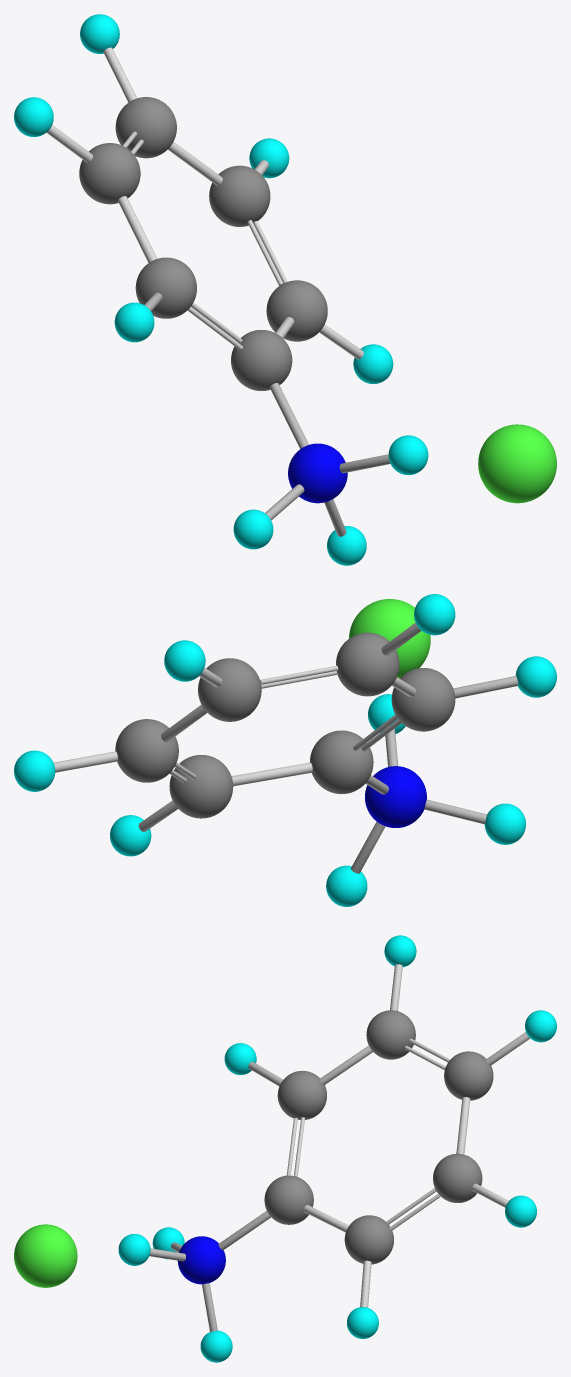
The model's file is anilinium chloride.glb.
3 renders of one model, top to bottom at view 1: azimuth 30°, elevation 25°; view 2: azimuth 150°, elevation 25°; view 3: azimuth 270°, elevation 25°, orthographic. The views are drawn at different scales.
Visible parts, largest first — view 1: CMAtom_15, CMAtom_0, CMAtom_2, CMAtom_5, CMAtom_3, CMAtom_4, CMAtom_1, CMAtom_11, CMAtom_10, CMAtom_13, CMAtom_14, CMAtom_9 (+6 smaller); view 2: CMAtom_2, CMAtom_5, CMAtom_0, CMAtom_4, CMAtom_1, CMAtom_3, CMAtom_15, CMAtom_11, CMAtom_7, CMAtom_6, CMAtom_9, CMAtom_13 (+14 smaller); view 3: CMAtom_15, CMAtom_4, CMAtom_3, CMAtom_5, CMAtom_1, CMAtom_2, CMAtom_0, CMAtom_11, CMAtom_6, CMAtom_7, CMAtom_14, CMAtom_12 (+4 smaller).
Part boxes in pixels (box(x1,y1,x2,y2)): CMAtom_15: box(478, 424, 556, 503); CMAtom_0: box(209, 165, 270, 226); CMAtom_2: box(231, 330, 292, 390); CMAtom_5: box(79, 143, 140, 204); CMAtom_3: box(115, 97, 176, 158); CMAtom_4: box(266, 280, 327, 341); CMAtom_1: box(135, 257, 196, 318); CMAtom_11: box(288, 443, 347, 503); CMAtom_10: box(114, 302, 154, 342); CMAtom_13: box(233, 509, 273, 549); CMAtom_14: box(388, 435, 428, 474); CMAtom_9: box(14, 97, 53, 136); CMAtom_2: box(310, 730, 373, 794); CMAtom_5: box(336, 632, 399, 696); CMAtom_0: box(115, 719, 178, 782); CMAtom_4: box(169, 755, 233, 818); CMAtom_1: box(391, 668, 455, 731); CMAtom_3: box(198, 658, 261, 721); CMAtom_15: box(349, 599, 430, 678); CMAtom_11: box(365, 766, 426, 827); CMAtom_7: box(164, 640, 205, 681); CMAtom_6: box(14, 750, 55, 791); CMAtom_9: box(414, 594, 455, 635); CMAtom_13: box(484, 803, 525, 844); CMAtom_15: box(14, 1224, 77, 1287); CMAtom_4: box(344, 1215, 393, 1264); CMAtom_3: box(444, 1051, 493, 1100); CMAtom_5: box(366, 1010, 415, 1059); CMAtom_1: box(277, 1070, 326, 1119); CMAtom_2: box(264, 1175, 313, 1224); CMAtom_0: box(433, 1153, 482, 1202); CMAtom_11: box(177, 1236, 225, 1284); CMAtom_6: box(505, 1195, 536, 1227); CMAtom_7: box(525, 1010, 556, 1042); CMAtom_14: box(118, 1234, 150, 1265); CMAtom_12: box(200, 1330, 232, 1362).
Bounding box in the file's own units: 4.07 × 4.76 × 6.77.
